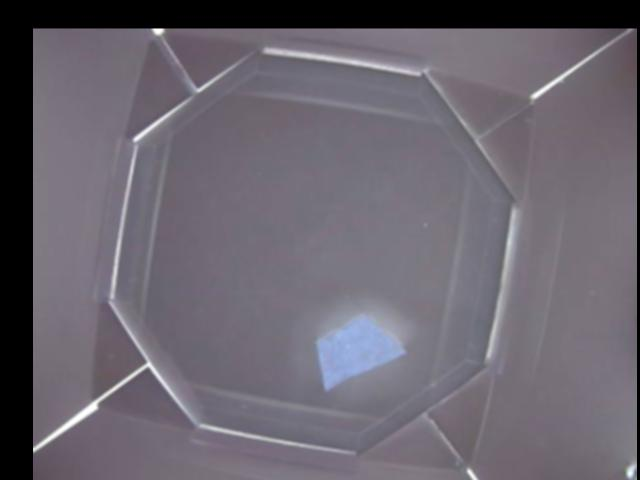China: (317, 311, 403, 389)
